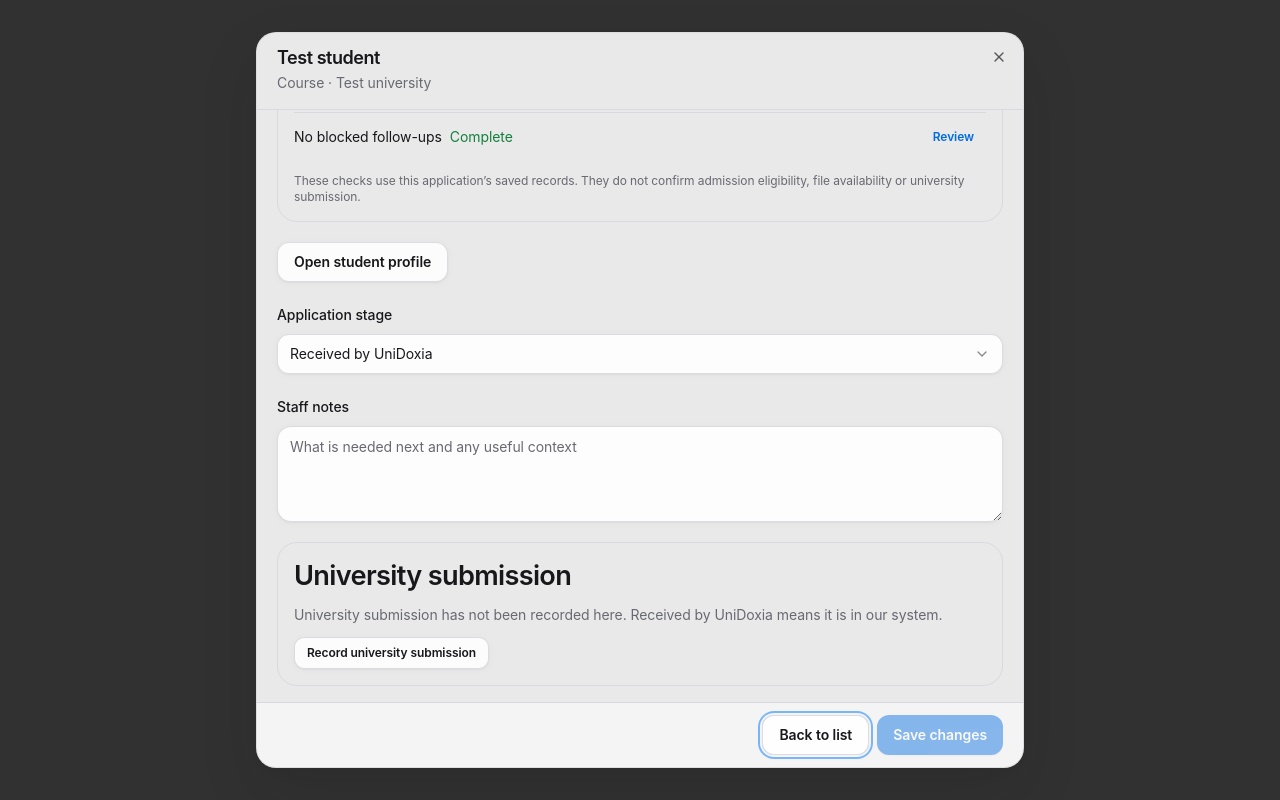
staff application workspace › keeps notes when switching sections and asks before discarding them
(page scrolled)
Check: the heading "Test student" is shown, box x1=277 y1=47 x2=380 y2=68
Type "Keep this note" into the text box labelled "Staff notes".
click(640, 474); type("Keep this note")  # box x1=277 y1=426 x2=1003 y2=522
(page scrolled)
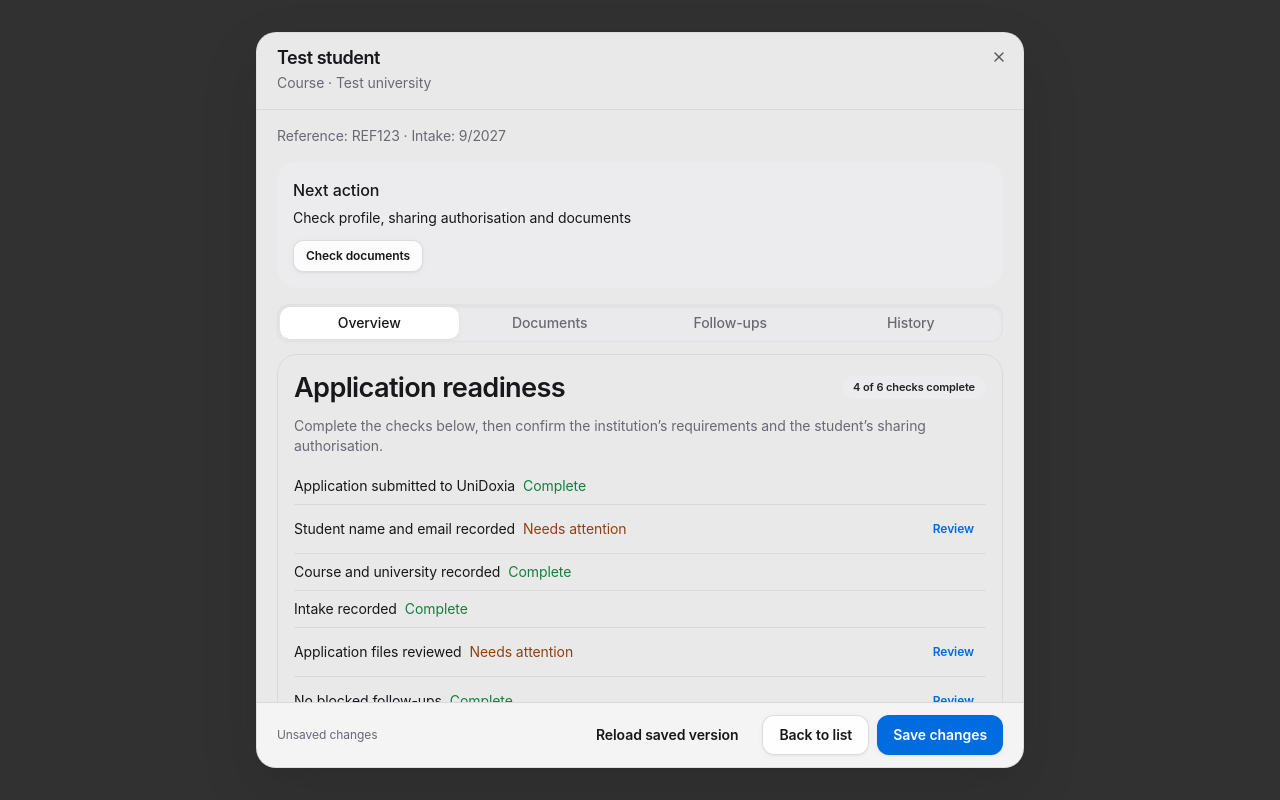
Click the tab "History".
click(911, 323)  # box x1=822 y1=307 x2=1000 y2=339
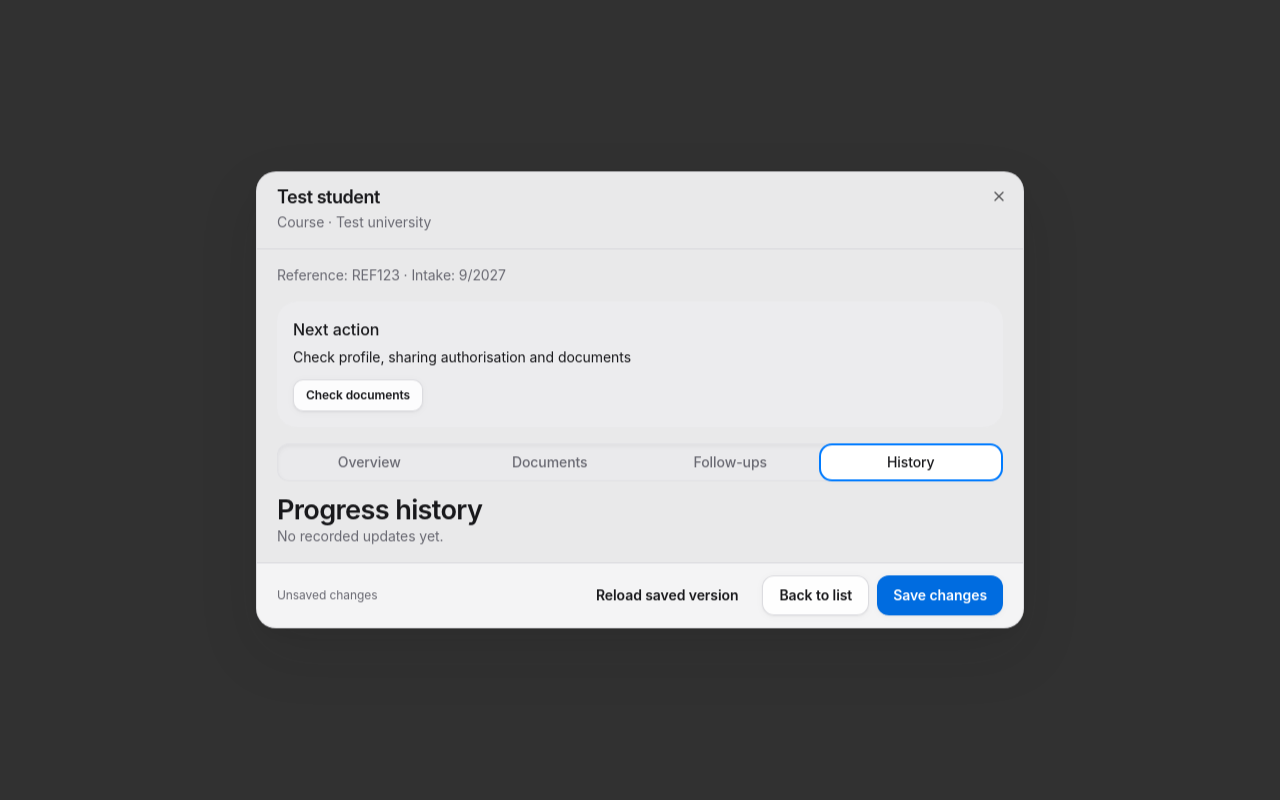
Click the tab "Overview".
click(369, 462)  # box x1=280 y1=446 x2=458 y2=478
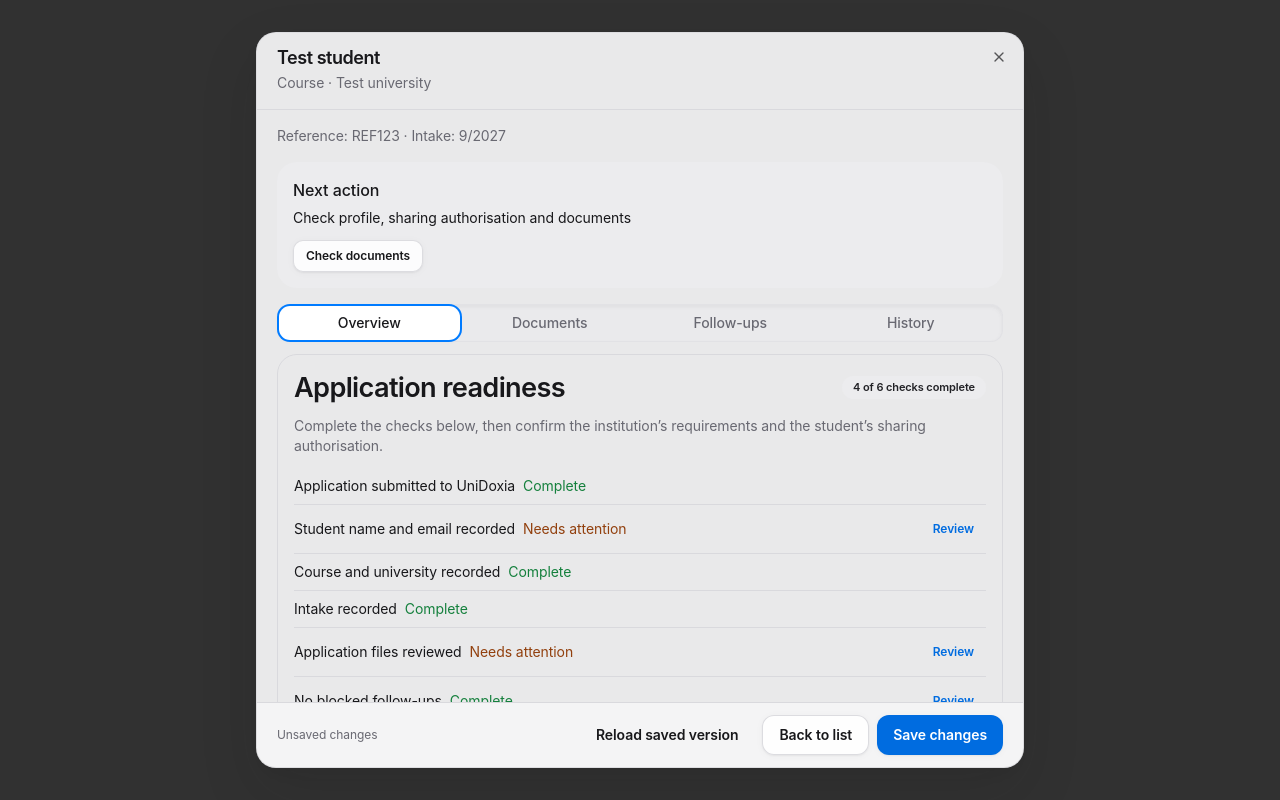
Click the button "Back to list".
click(816, 735)  # box x1=762 y1=715 x2=869 y2=755
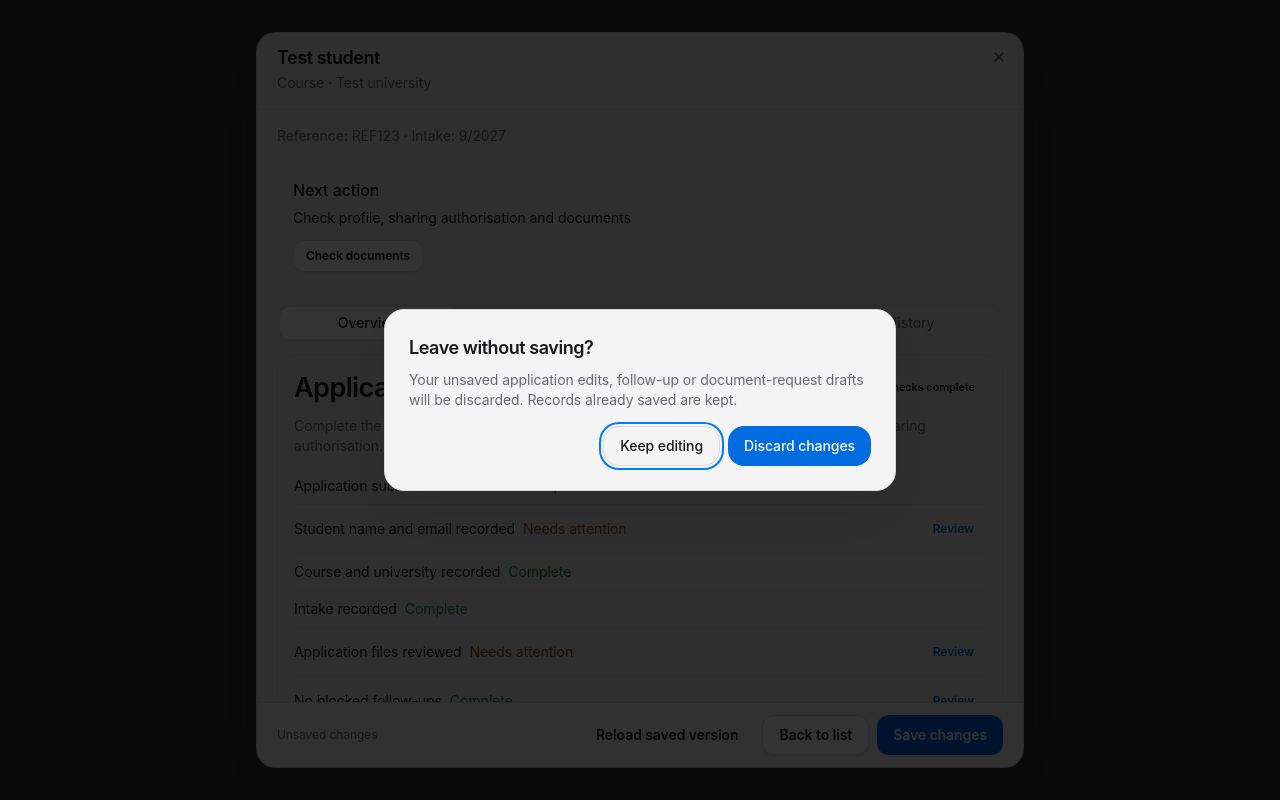
Check: the dialog that starts with "Leave without saving?" is shown, box x1=409 y1=337 x2=593 y2=358
Click the button "Keep editing".
click(662, 446)  # box x1=603 y1=426 x2=720 y2=466
(page scrolled)
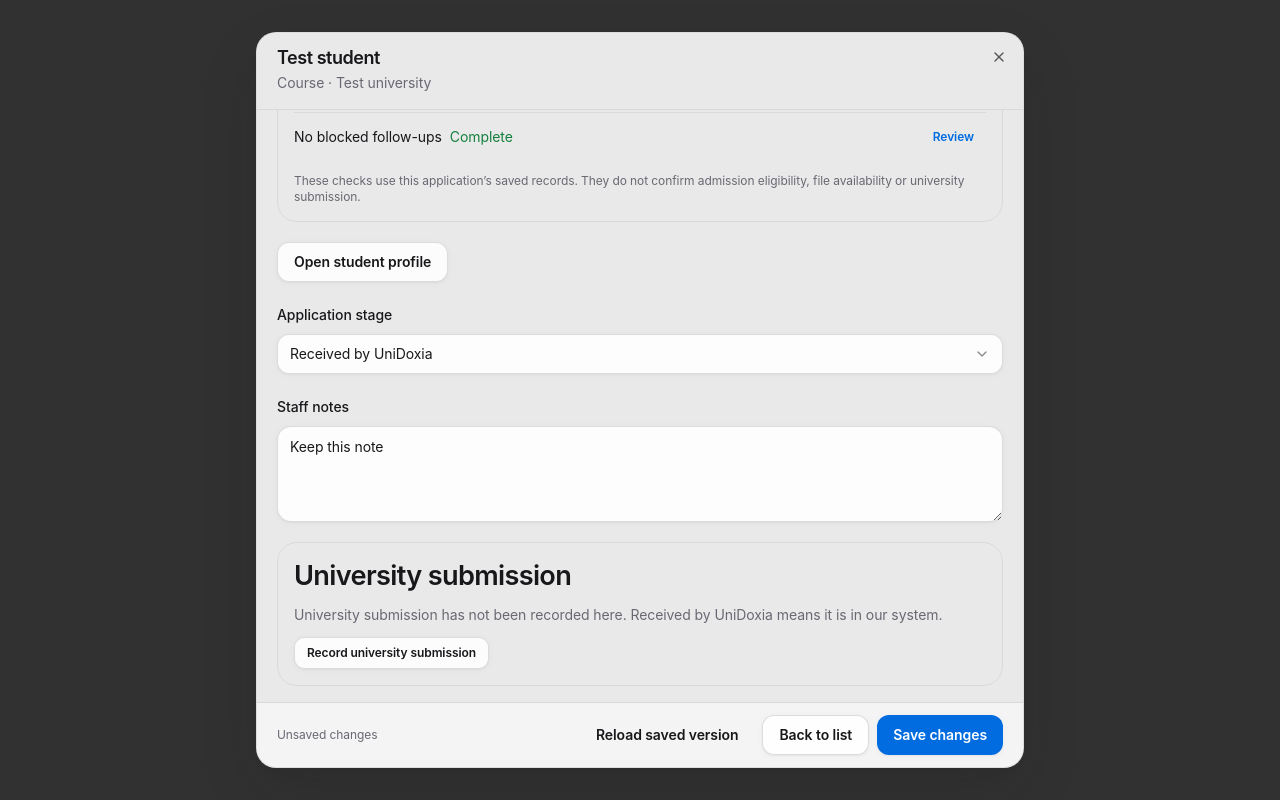
Check: the text box labelled "Staff notes" holds "Keep this note", box x1=277 y1=426 x2=1003 y2=522
